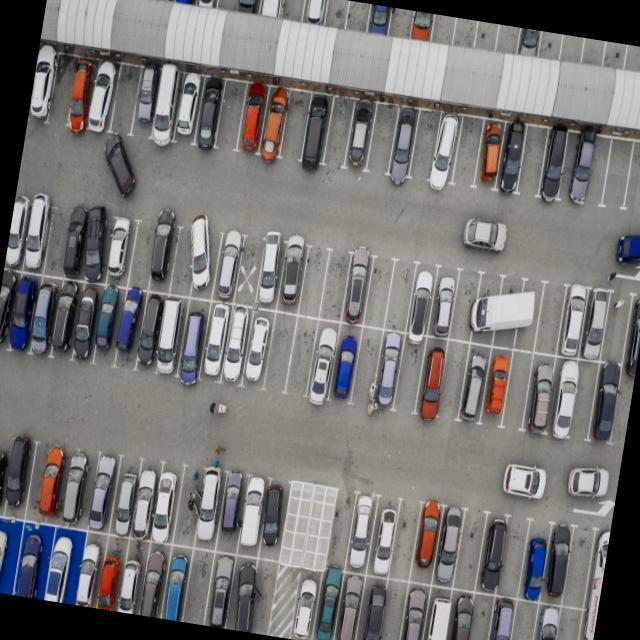car: (546, 356, 587, 440), (175, 298, 215, 384), (37, 526, 81, 604), (522, 354, 562, 438), (185, 220, 225, 300), (30, 443, 70, 523), (11, 524, 53, 600), (366, 328, 404, 411), (412, 338, 450, 420), (366, 496, 404, 578), (150, 294, 188, 376), (208, 228, 248, 305), (407, 501, 444, 584), (77, 208, 116, 286), (588, 364, 626, 444), (240, 308, 278, 388), (148, 68, 186, 148), (56, 448, 94, 528), (196, 302, 233, 384), (216, 304, 253, 386), (189, 466, 226, 548), (3, 271, 40, 353), (457, 342, 494, 423), (519, 521, 556, 602), (342, 491, 378, 574), (306, 316, 342, 399), (168, 70, 206, 148), (489, 273, 528, 349), (113, 288, 150, 368), (432, 506, 468, 588), (17, 196, 54, 275), (73, 529, 110, 608), (86, 452, 122, 533), (426, 113, 464, 189), (112, 539, 150, 615), (564, 132, 602, 208), (470, 270, 508, 346), (85, 59, 122, 137), (72, 282, 108, 362), (474, 512, 509, 594), (556, 287, 594, 362), (255, 233, 292, 310), (233, 82, 270, 158), (404, 264, 442, 338), (539, 128, 576, 204), (93, 533, 129, 611), (479, 346, 515, 424), (158, 544, 194, 622), (135, 539, 171, 617), (328, 322, 363, 402), (92, 283, 127, 363), (49, 278, 84, 358), (212, 472, 246, 554), (0, 434, 34, 515), (105, 214, 142, 288), (204, 552, 240, 628), (192, 77, 228, 153), (236, 476, 271, 554), (27, 276, 62, 354), (472, 119, 509, 192), (274, 239, 310, 314), (134, 292, 168, 371), (107, 458, 141, 537), (256, 86, 292, 160), (64, 58, 98, 136), (27, 48, 61, 126), (298, 93, 334, 166), (147, 466, 181, 543), (128, 463, 162, 540), (226, 554, 260, 631), (342, 100, 378, 172), (576, 288, 611, 362), (510, 278, 545, 352), (130, 66, 164, 142), (255, 484, 288, 562), (540, 526, 572, 606), (425, 268, 461, 339), (290, 569, 326, 640), (387, 108, 422, 180), (496, 122, 530, 196), (330, 569, 364, 640), (147, 219, 180, 292), (340, 255, 374, 325), (309, 570, 343, 640), (4, 193, 34, 270), (355, 574, 389, 640), (62, 206, 92, 279), (420, 584, 459, 640), (0, 515, 28, 593), (396, 581, 433, 640), (584, 528, 610, 610), (442, 591, 476, 640), (484, 594, 519, 640), (525, 599, 560, 640), (622, 296, 640, 374), (0, 514, 17, 594), (0, 270, 17, 348), (0, 437, 14, 512), (571, 605, 598, 640), (363, 4, 392, 36), (408, 11, 436, 43), (517, 28, 544, 57), (302, 0, 331, 26), (256, 0, 284, 19), (234, 0, 261, 14), (194, 0, 222, 9)
free: (434, 339, 472, 422), (498, 350, 536, 432), (260, 310, 298, 390), (564, 359, 599, 444), (242, 556, 280, 634), (392, 334, 429, 414), (452, 511, 488, 593), (348, 327, 384, 408), (387, 500, 422, 583), (286, 315, 322, 395), (496, 518, 531, 600), (561, 526, 595, 610), (514, 123, 551, 200), (322, 493, 357, 574), (448, 116, 486, 190), (230, 230, 266, 308), (46, 52, 82, 130), (171, 469, 206, 549), (213, 79, 250, 154), (598, 292, 634, 369), (280, 86, 316, 163), (182, 548, 218, 624), (532, 283, 568, 358), (365, 101, 401, 176), (109, 64, 145, 138), (322, 97, 358, 169), (407, 110, 442, 184), (168, 221, 202, 296), (316, 252, 351, 324), (294, 248, 329, 320), (382, 262, 417, 334), (600, 140, 635, 212), (581, 134, 614, 210), (360, 259, 395, 329), (128, 218, 162, 290), (448, 271, 482, 343), (372, 576, 409, 640), (42, 203, 74, 276), (280, 489, 310, 566), (23, 443, 51, 522), (609, 370, 636, 448), (463, 593, 498, 640), (504, 597, 541, 640), (623, 142, 640, 215), (551, 604, 585, 640), (429, 14, 457, 46), (452, 18, 479, 50), (344, 0, 371, 32), (474, 22, 502, 52), (495, 25, 522, 55), (323, 0, 350, 30), (388, 7, 414, 38), (560, 35, 586, 64), (537, 31, 563, 60), (580, 38, 606, 66), (602, 41, 626, 68), (280, 0, 307, 21), (624, 45, 640, 72), (215, 0, 241, 12)
